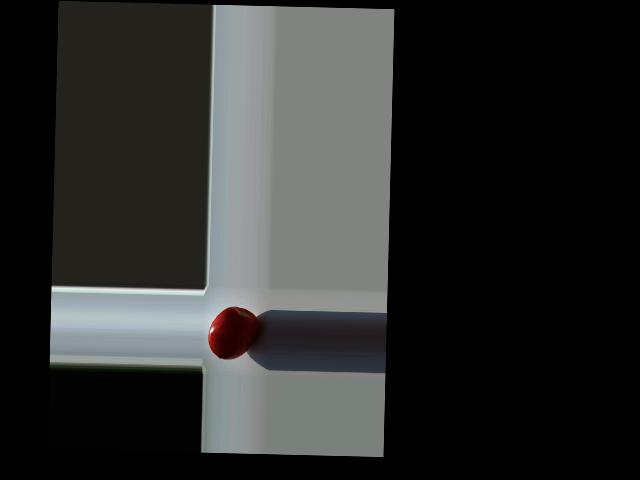tomato: (207, 306, 259, 360)
